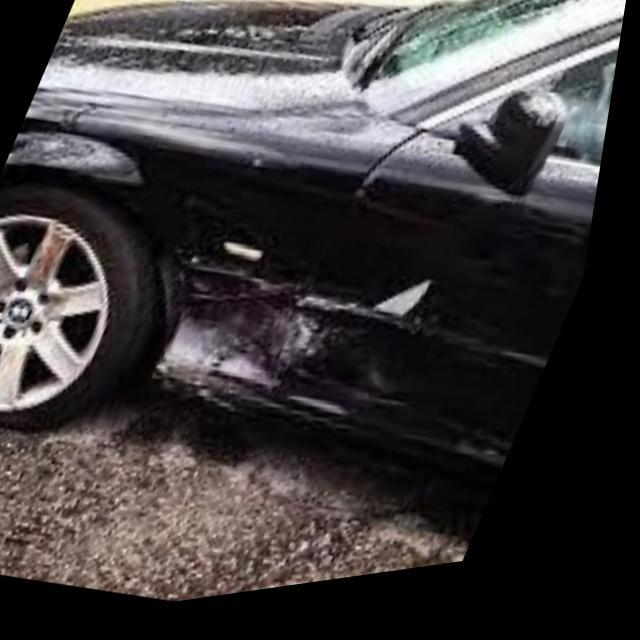dent: (162, 232, 463, 430)
